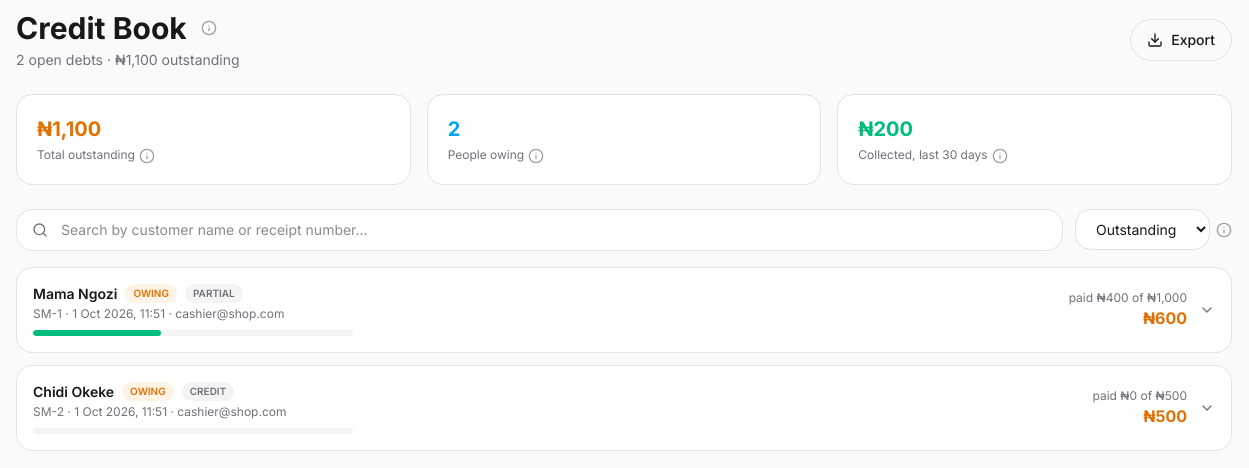
Test: Credit Book › filters records by customer name
This screenshot has width=1249, height=468.
Expected: the text "Mama Ngozi" is shown, x1=33 y1=284 x2=117 y2=304
Type "chidi" into the field named "Search credit records" at [540, 230], box x1=16 y1=209 x2=1063 y2=251
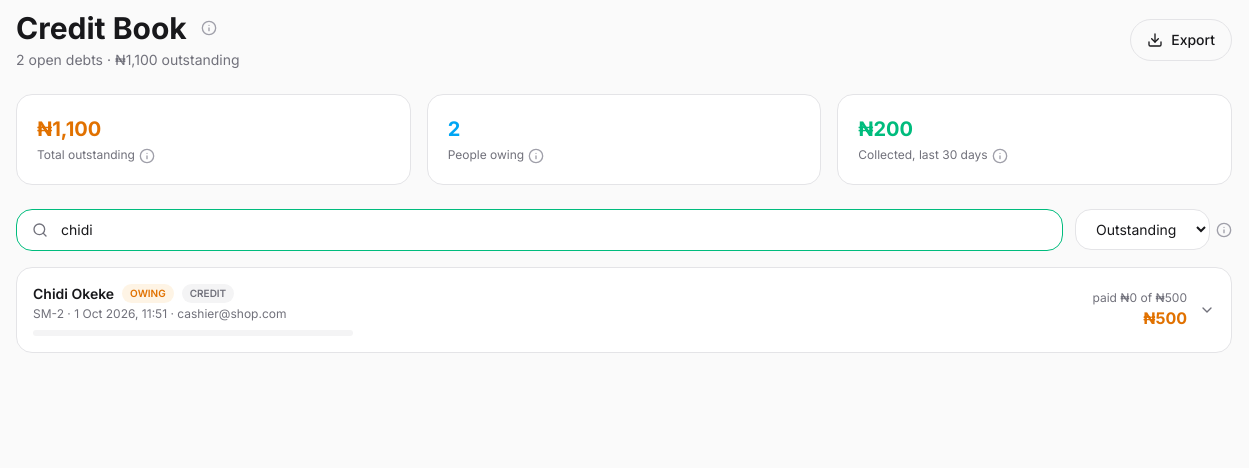
Expected: the text "Chidi Okeke" is shown, x1=33 y1=284 x2=114 y2=304
Expected: the button "Mama Ngozi" is gone
